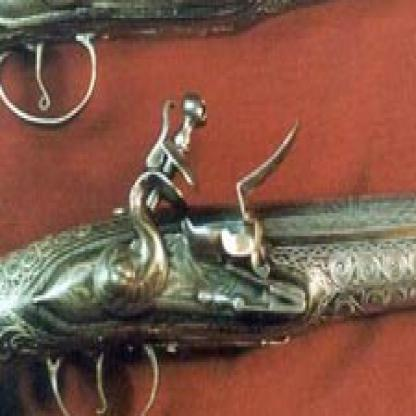gun: (0, 36, 414, 413), (0, 0, 414, 308)
